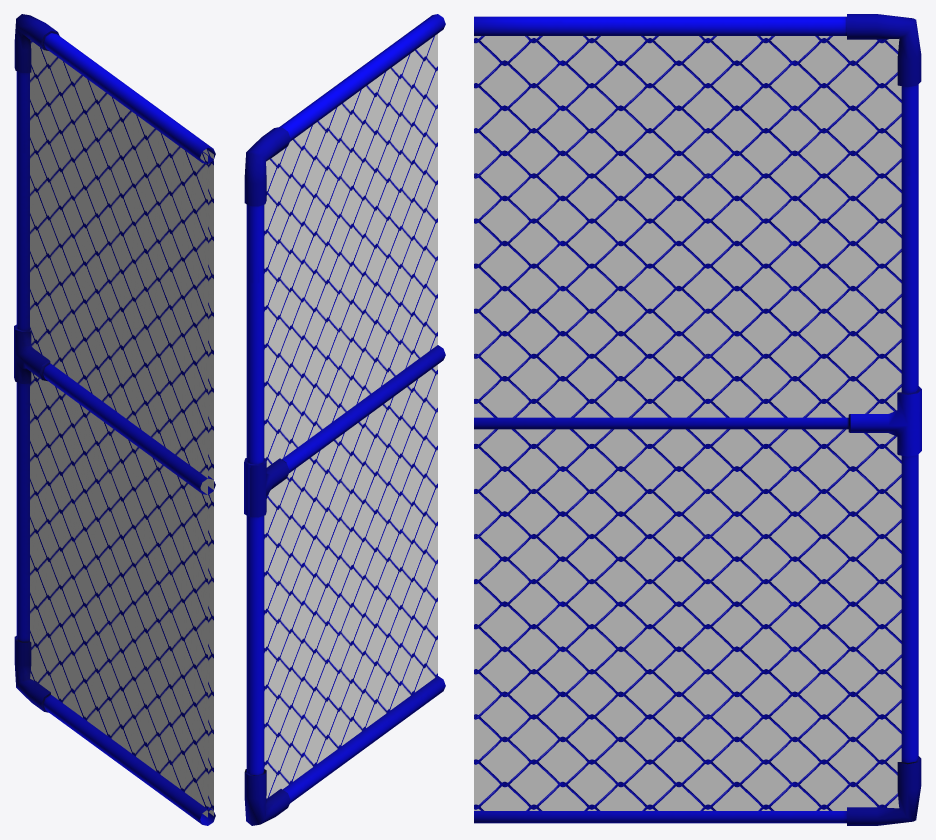
The model's file is fence.fbx.
3 views of the same model, side by side, from view 1: azimuth 30°, elevation 25°; view 2: azimuth 150°, elevation 25°; view 3: azimuth 270°, elevation 25° (orthographic). The views are drawn at different scales.
Parts seen in each view (by area): view 1: fence; view 2: fence; view 3: fence.
Part boxes in pixels (<box>): fence: <box>14,14,215,825</box>; fence: <box>244,14,445,825</box>; fence: <box>474,14,921,825</box>.
Bounding box in the file's own units: 25.77 × 825 × 413.
